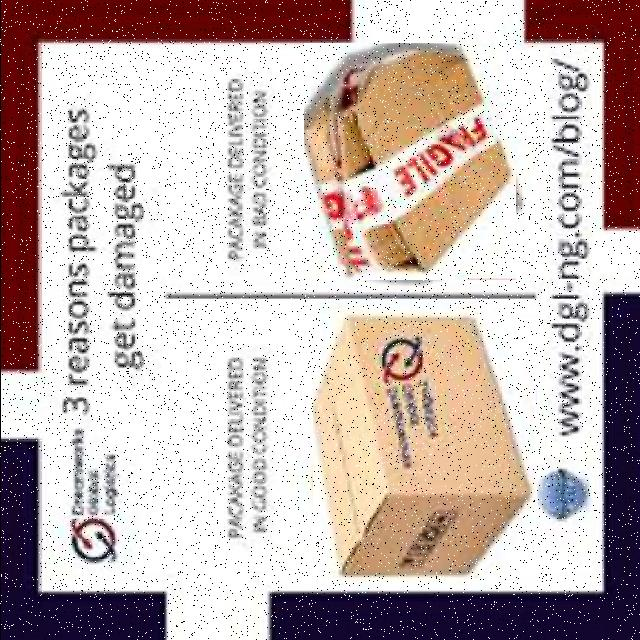defect: (303, 43, 515, 280)
normal: (312, 314, 536, 578)
